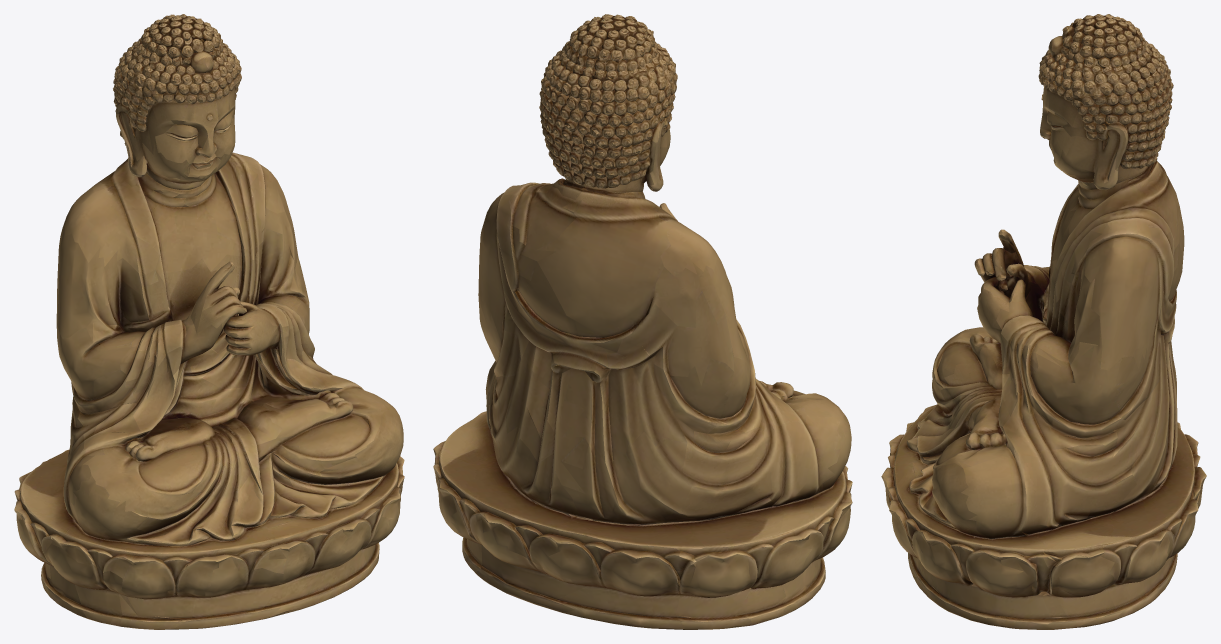
The model's file is statue-biro.glb.
3 renders of one model, left to right at view 1: azimuth 30°, elevation 25°; view 2: azimuth 150°, elevation 25°; view 3: azimuth 270°, elevation 25°, orthographic. The views are drawn at different scales.
Parts seen in each view (by area): view 1: output_unwrapped; view 2: output_unwrapped; view 3: output_unwrapped.
Boxes of the visible parts, x1,y1,x2,y2 form: output_unwrapped: (14,14,404,629); output_unwrapped: (433,14,852,629); output_unwrapped: (881,14,1206,629).
Bounding box in the file's own units: 1.32 × 1.9 × 1.04.
Materials: 1 (1 with a texture image).
